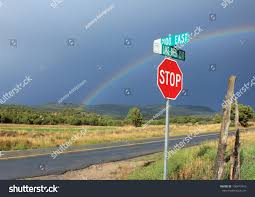Stop: (150, 54, 191, 103)
